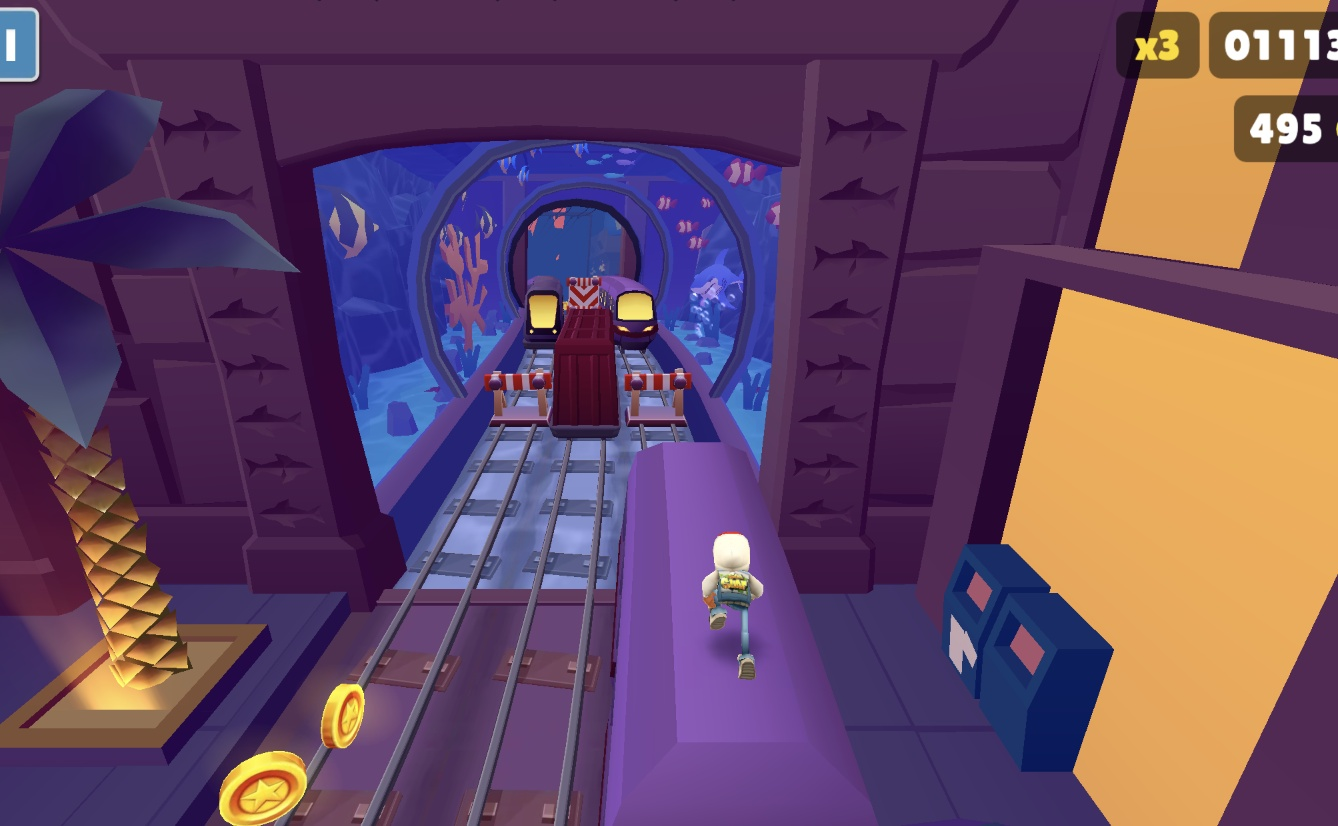ground_barrier: (624, 367, 684, 439), (497, 369, 552, 434)
overhead_barrier: (564, 270, 607, 322)
train: (614, 439, 874, 826), (534, 292, 624, 442), (609, 284, 667, 357), (519, 287, 564, 354)
